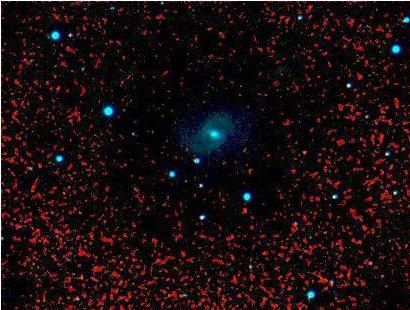star: (292, 140, 322, 170)
